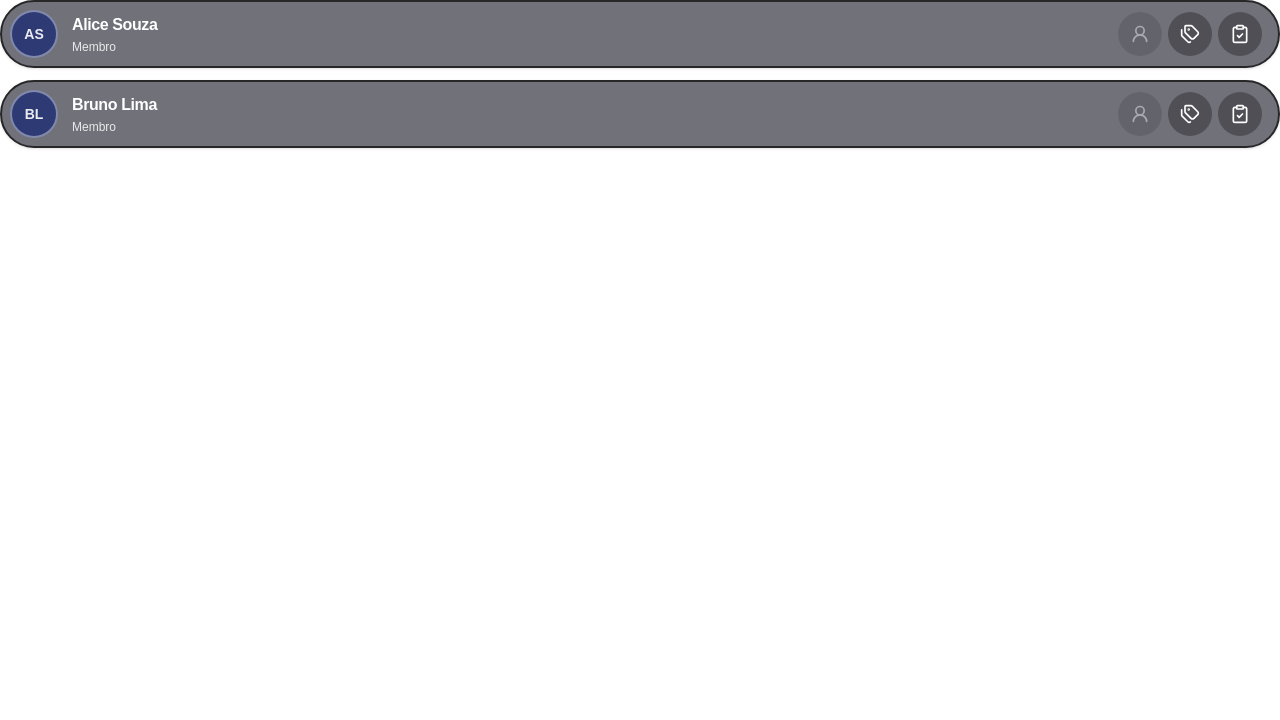
[US09] AttendanceList › Deve listar cada aluno com o botão de presença que abre os quatro status
The width and height of the screenshot is (1280, 720).
Expected: the number of list items is 2, [0,0,1279,68]; [0,80,1279,148]
Expected: the text "Alice Souza" is shown, [72,16,157,33]
Click the button named "Presença de Alice Souza: não registrada" at (1240, 34), box [1218,12,1262,56]
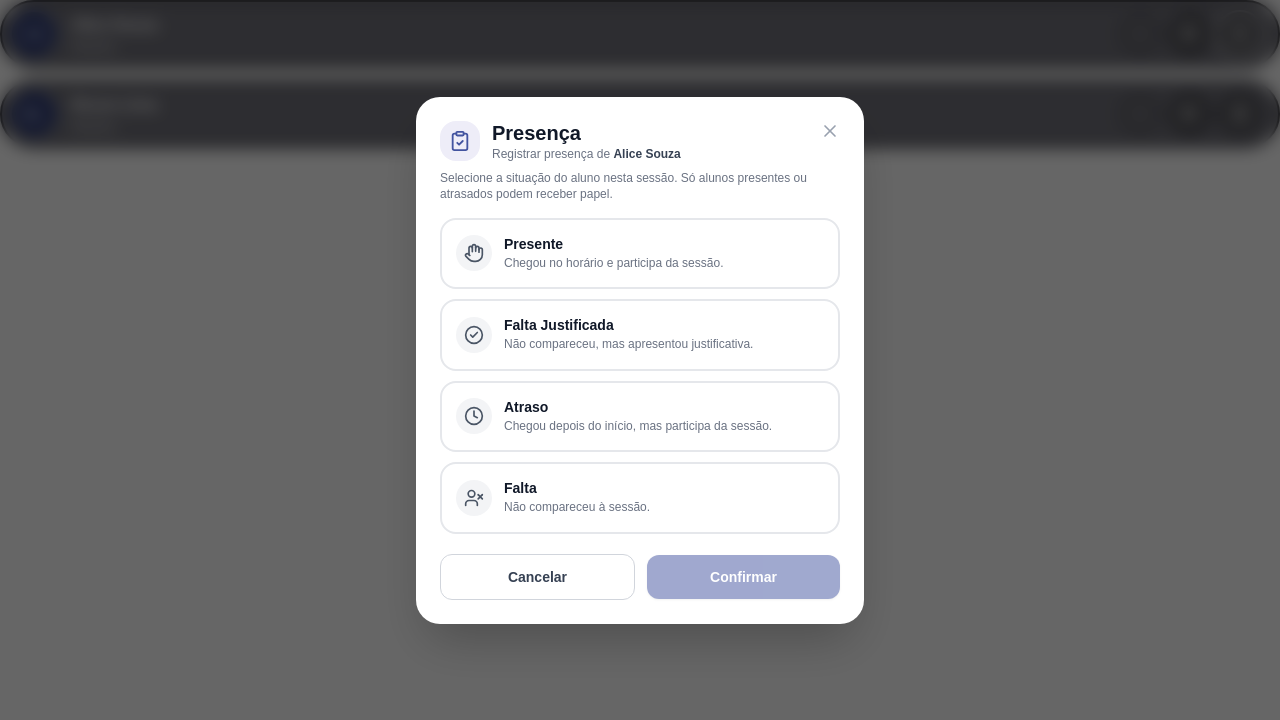
Expected: the text "Alice Souza" is shown, [613,146,681,160]
Expected: the button "Presente" is shown, [440,218,840,289]
Expected: the button "Falta Não compareceu à sessão." is shown, [440,462,840,534]
Click the button named "Fechar modal de presença" at (830, 130), box [816,116,844,144]
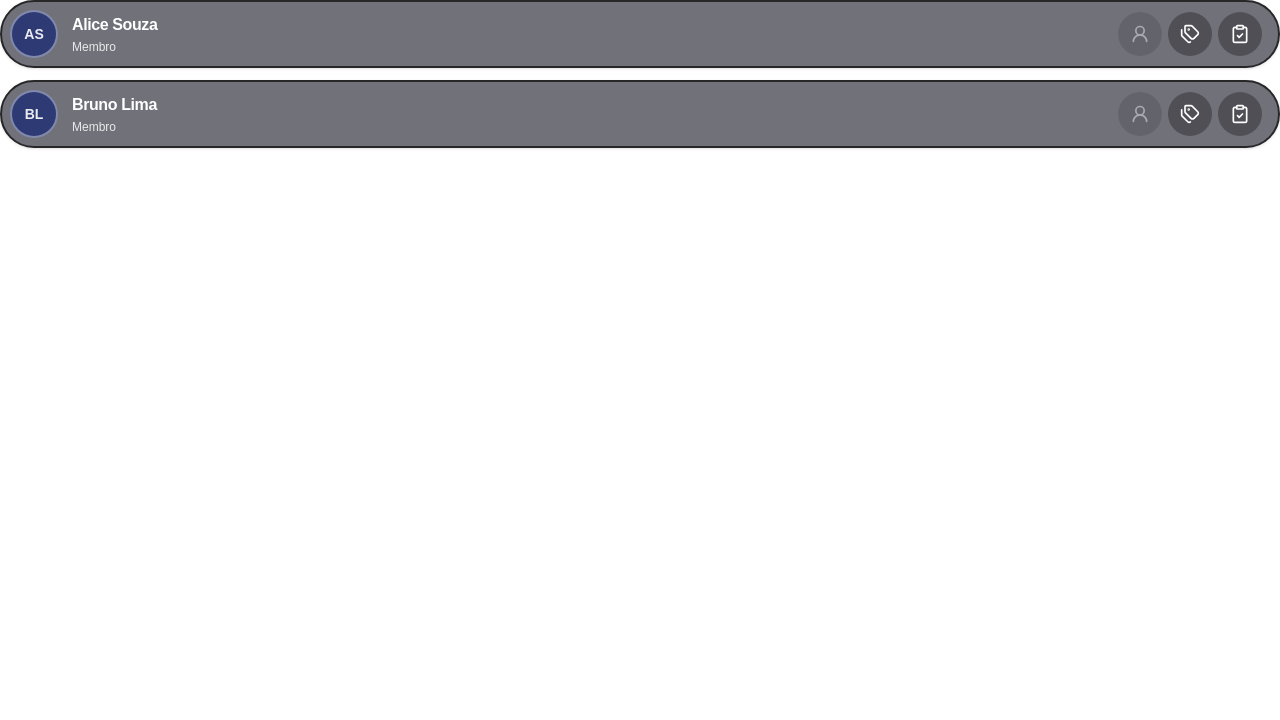
Expected: the text "Bruno Lima" is shown, [72,96,157,113]
Expected: the dialog is gone
Click the button named "Presença de Bruno Lima: não registrada" at (1240, 114), box [1218,92,1262,136]
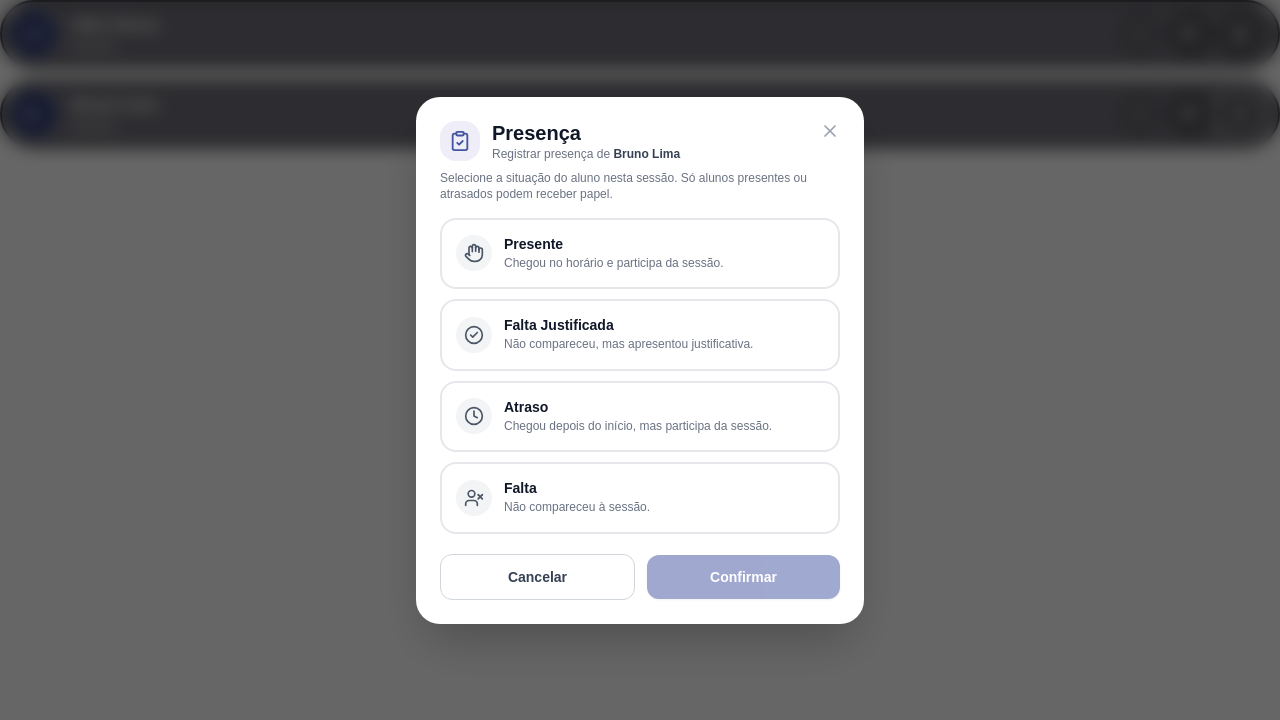
Expected: the text "Bruno Lima" is shown, [613,146,680,160]
Expected: the button "Presente" is shown, [440,218,840,289]
Expected: the button "Falta Não compareceu à sessão." is shown, [440,462,840,534]
Click the button named "Fechar modal de presença" at (830, 130), box [816,116,844,144]
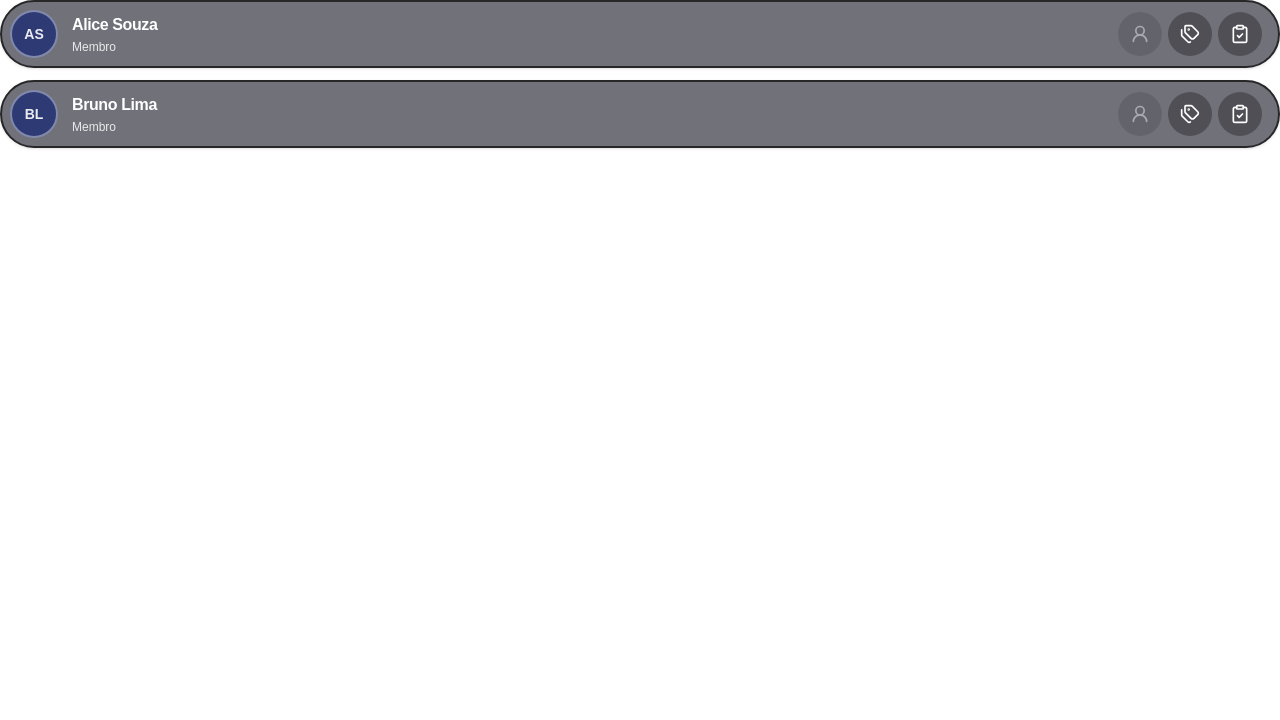
Expected: the dialog is gone
